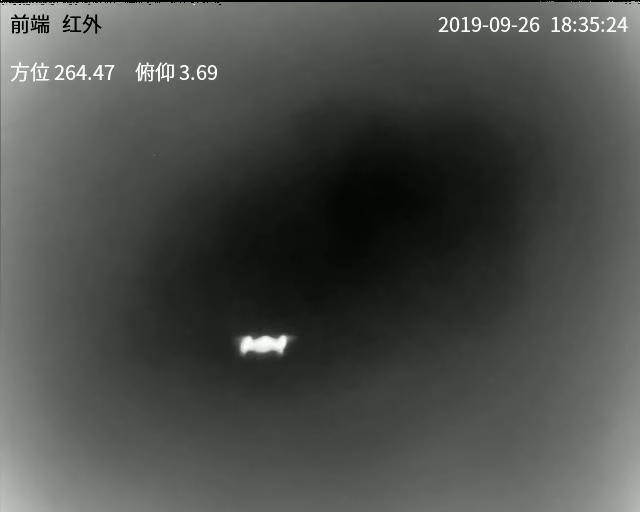uav: (236, 324, 292, 354)
